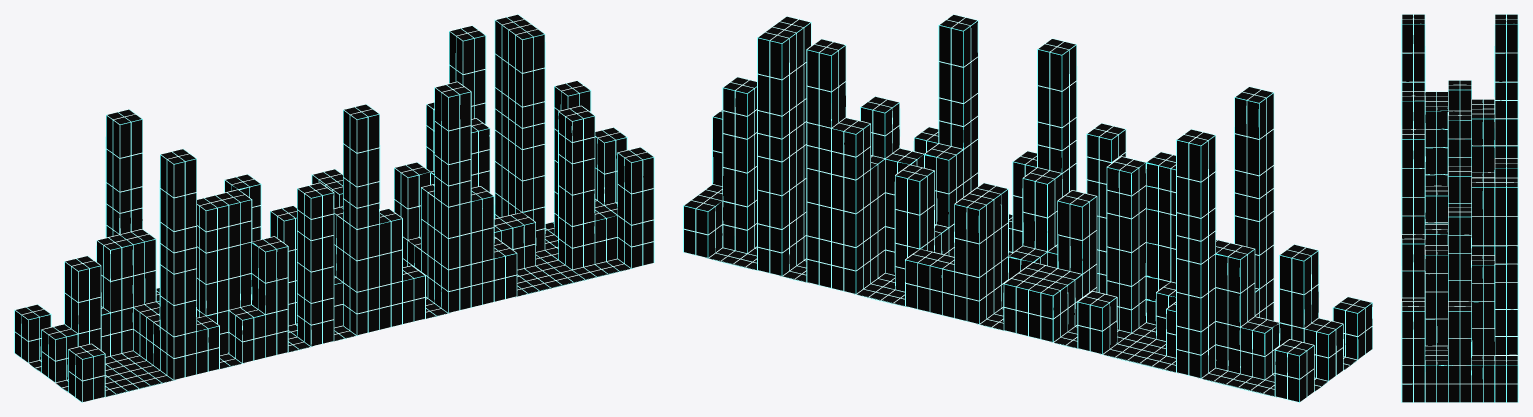
Rendered from backgroundBuilding.fbx.
3 views of the same model, side by side, from view 1: azimuth 30°, elevation 25°; view 2: azimuth 150°, elevation 25°; view 3: azimuth 270°, elevation 25° (orthographic). The views are drawn at different scales.
Parts seen in each view (by area): view 1: Plane; view 2: Plane; view 3: Plane.
Boxes of the visible parts, x1,y1,x2,y2 form: Plane: (14, 14, 654, 402); Plane: (683, 14, 1372, 402); Plane: (1401, 14, 1518, 402).
Bounding box in the file's own units: 13486 × 4894 × 2773.
